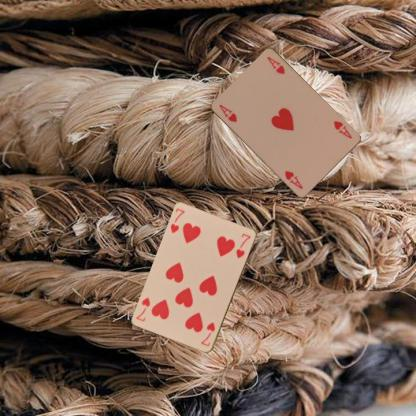7h: (198, 320, 217, 348), (168, 206, 186, 235)
Ah: (331, 116, 353, 140), (216, 102, 239, 124)
